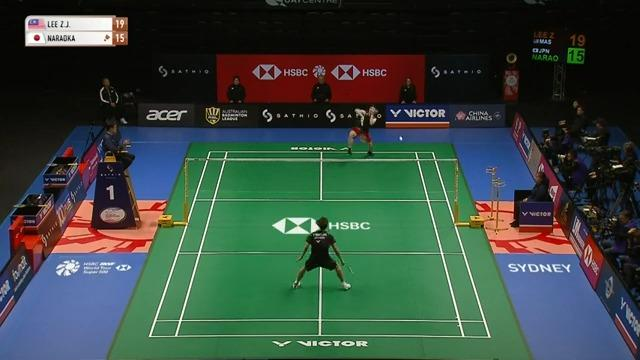Shuttlecock: (396, 132, 404, 144)
